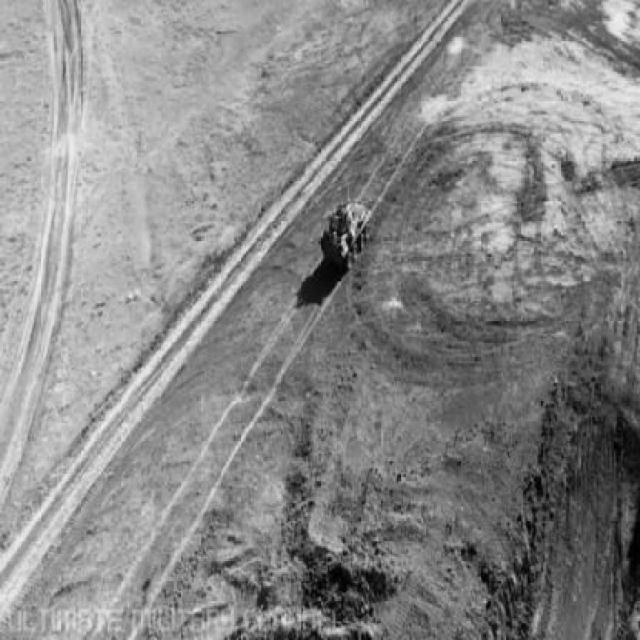Vehicle: (319, 199, 372, 272)
